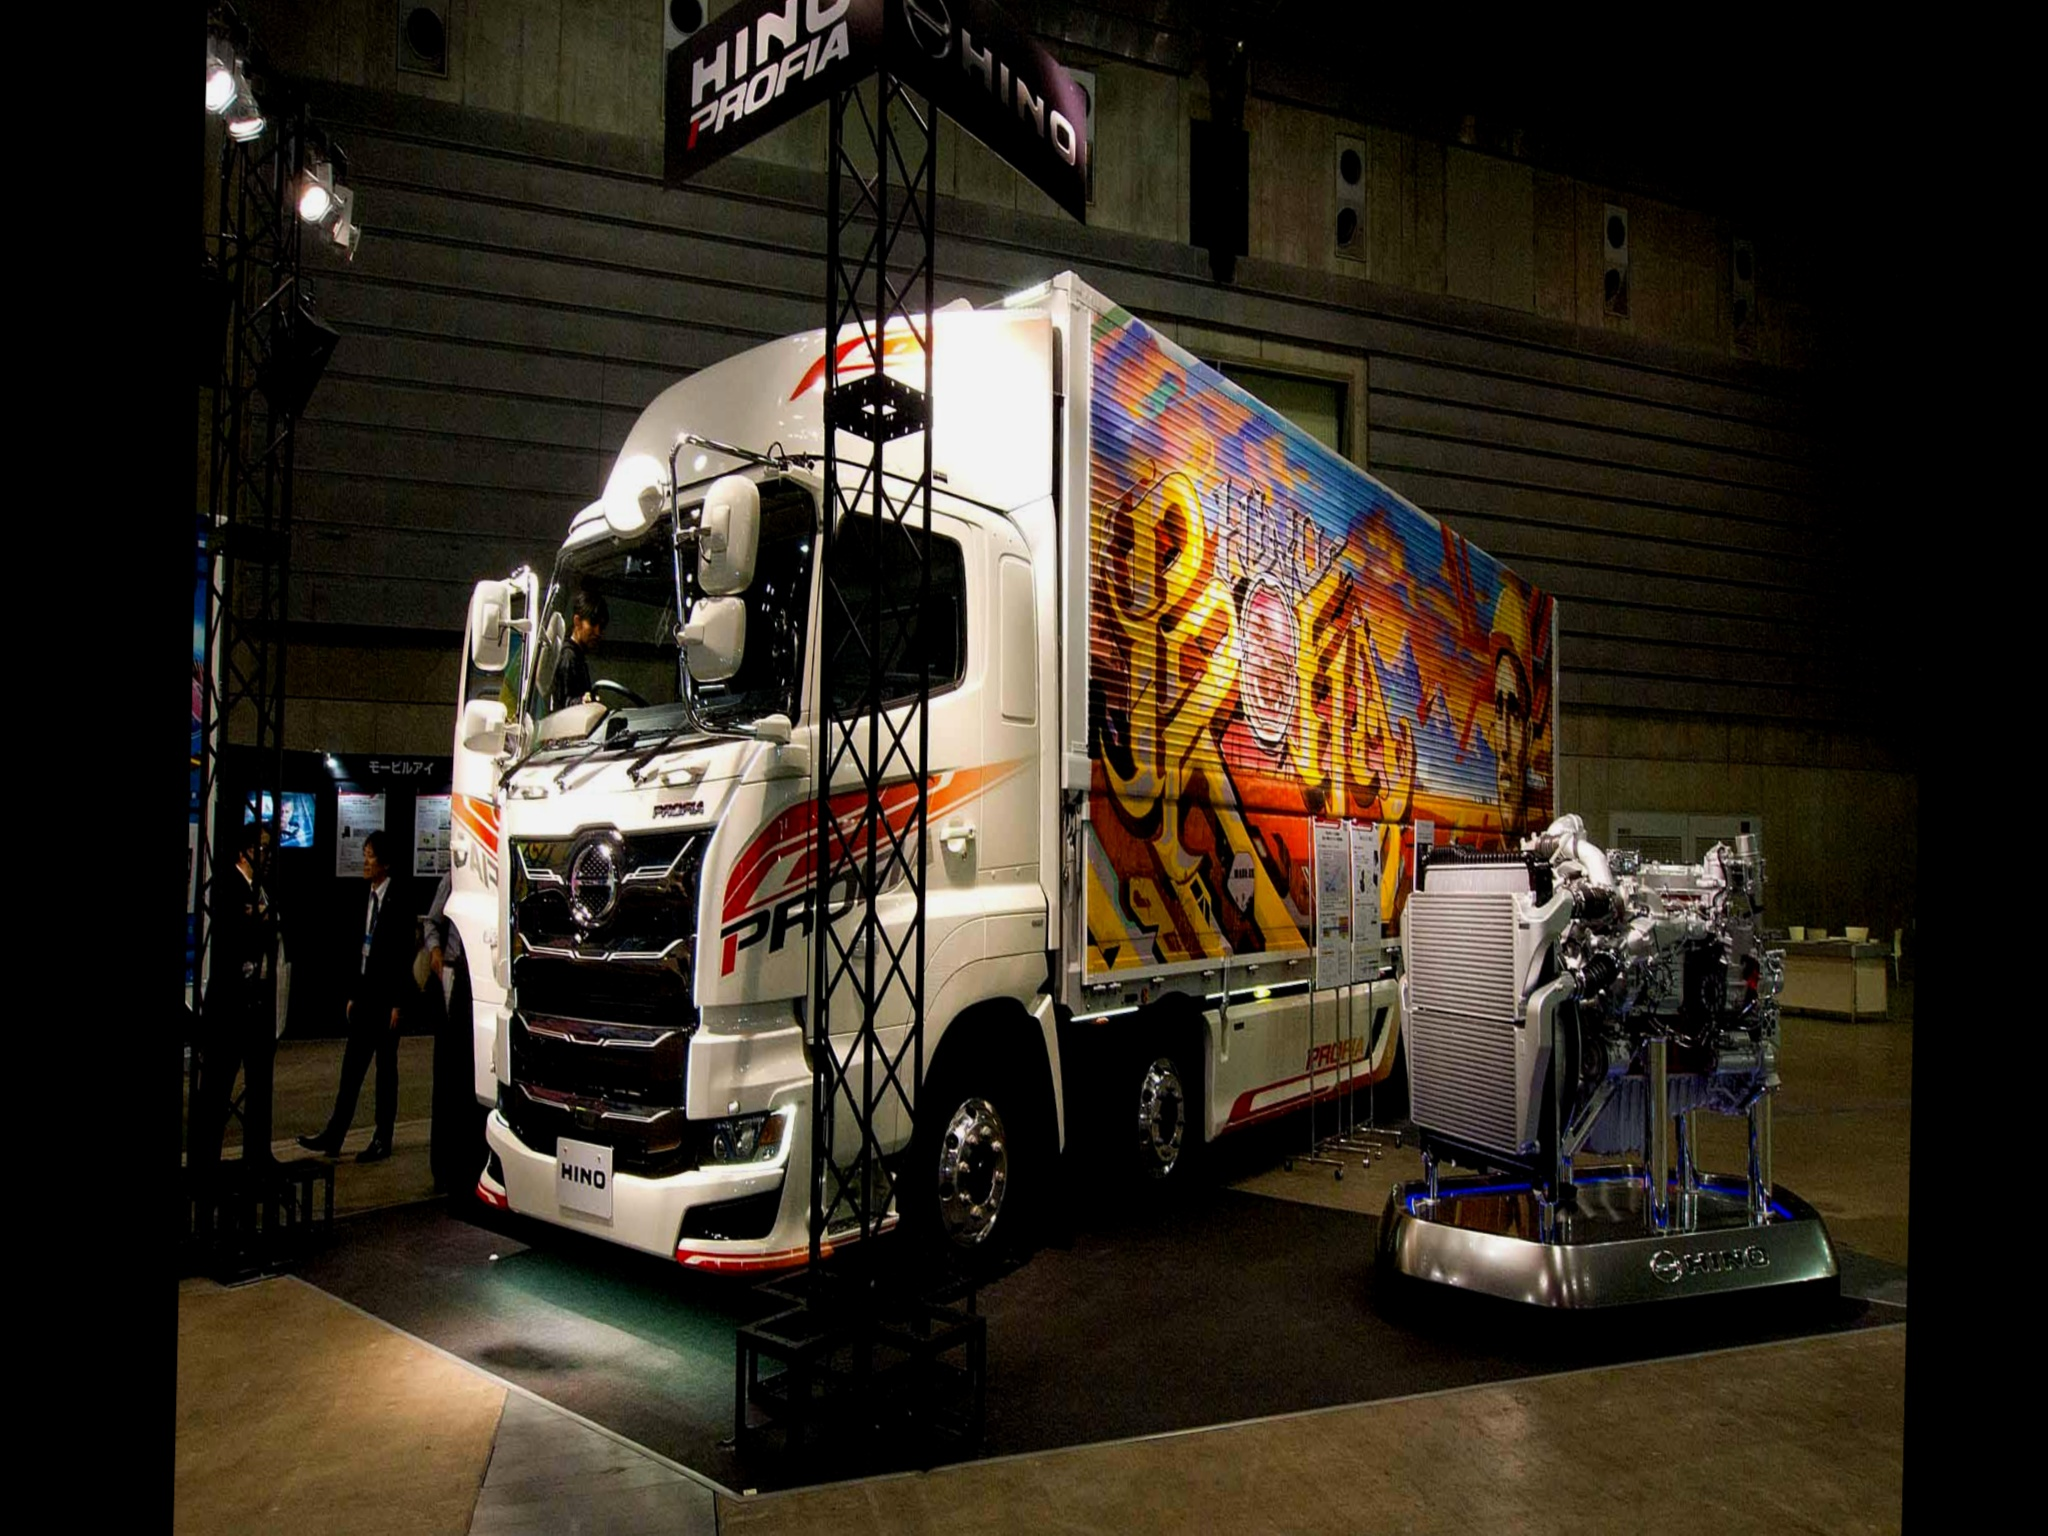truck: (439, 260, 1571, 1292)
